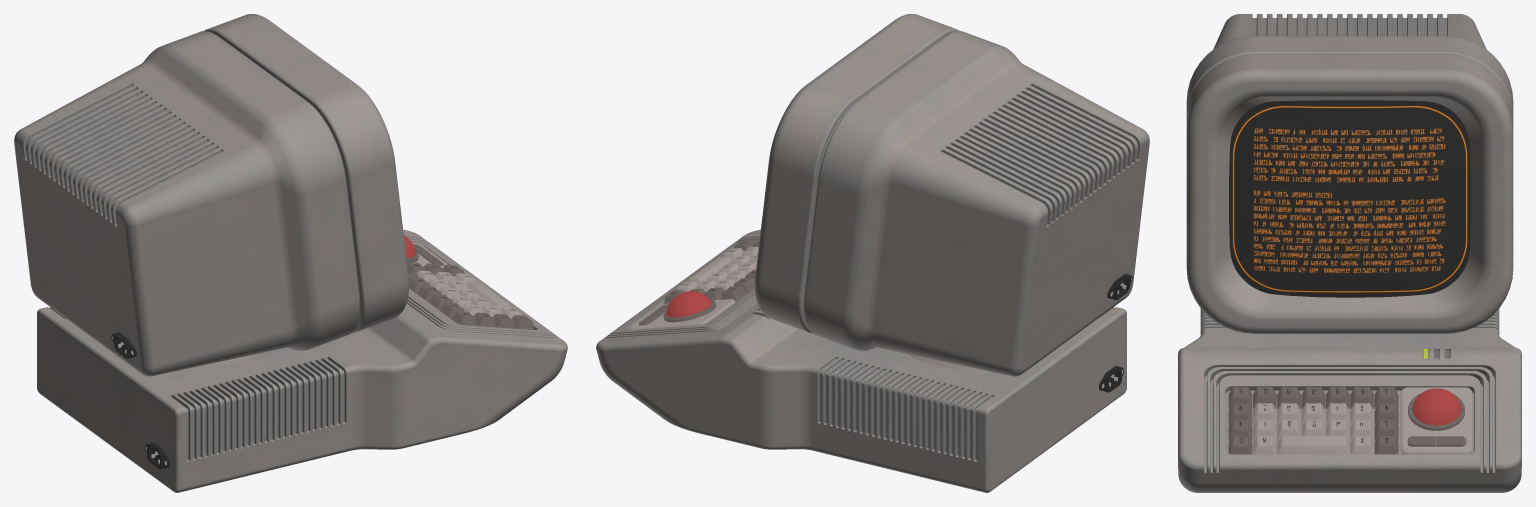
Rendered from obj_retro_computer_urpo.glb.
The picture shows the model from 3 angles, left to right: view 1: azimuth 30°, elevation 25°; view 2: azimuth 150°, elevation 25°; view 3: azimuth 270°, elevation 25°; orthographic projection. The views are drawn at different scales.
Visible parts, largest first — view 1: Part2, Part1; view 2: Part2, Part1; view 3: Part2, Part1.
Part boxes in pixels (x1,y1,x2,y2): Part2: (14,14,567,492); Part1: (111,235,533,469); Part2: (596,14,1149,492); Part1: (630,239,1132,392); Part2: (1178,14,1521,492); Part1: (1228,100,1472,454).
Bounding box in the file's own units: 2 × 1.55 × 1.32.
2 materials, 2 textured.
